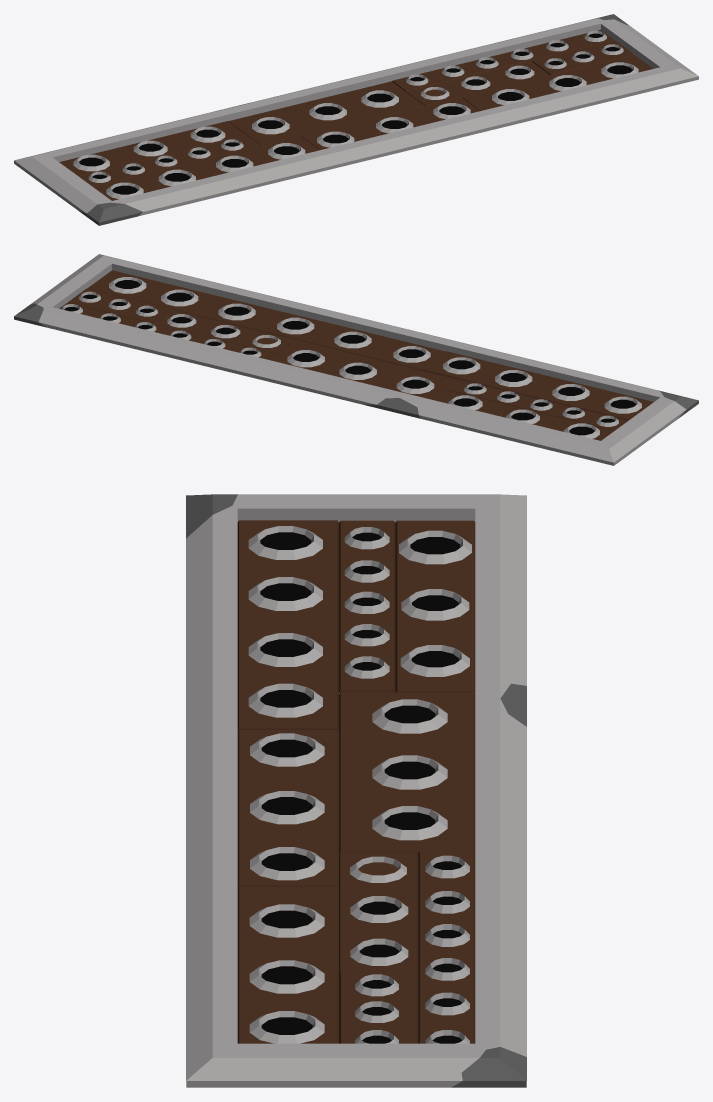
Rendered from MEDWoodenBoardTrap.fbx.
3 renders of one model, top to bottom at view 1: azimuth 30°, elevation 25°; view 2: azimuth 150°, elevation 25°; view 3: azimuth 270°, elevation 25°, orthographic. The views are drawn at different scales.
Visible parts, largest first — view 1: MEDWoodenBoardTrap; view 2: MEDWoodenBoardTrap; view 3: MEDWoodenBoardTrap.
Boxes of the visible parts, x1,y1,x2,y2 form: MEDWoodenBoardTrap: [14, 14, 698, 225]; MEDWoodenBoardTrap: [14, 254, 698, 465]; MEDWoodenBoardTrap: [186, 494, 526, 1087].
Size of the model in its own units: 214 by 3.18 by 52.56.
